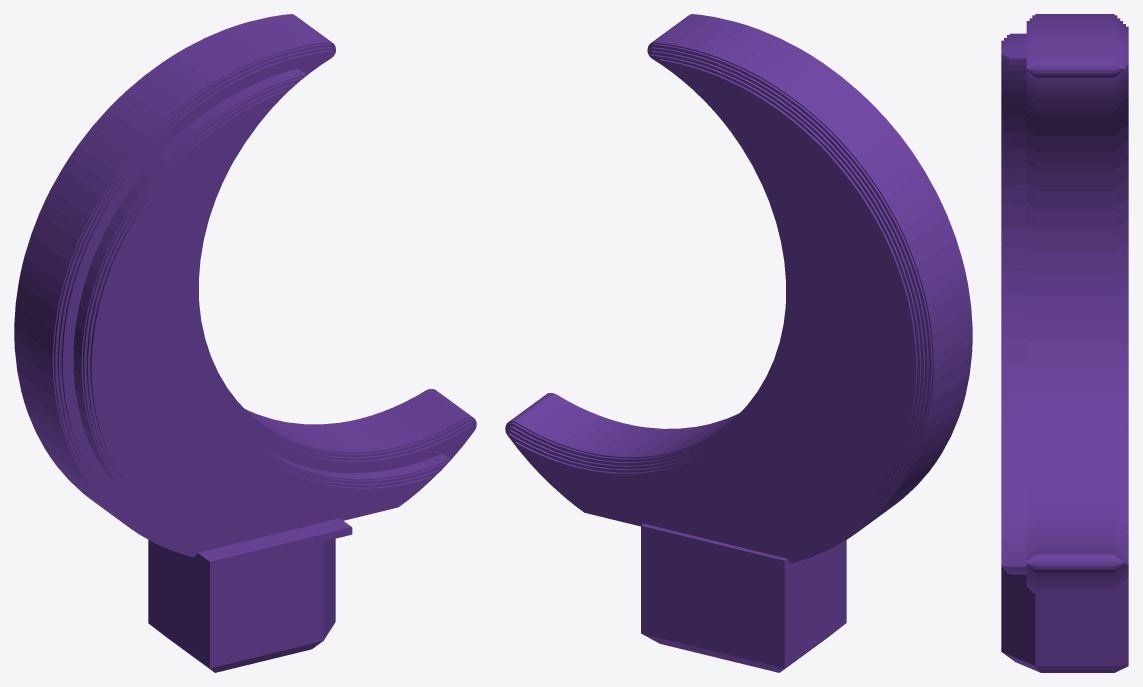
The model's file is glyph-shadow@shadow.glb.
3 views of the same model, side by side, from view 1: azimuth 30°, elevation 25°; view 2: azimuth 150°, elevation 25°; view 3: azimuth 270°, elevation 25° (orthographic). The views are drawn at different scales.
Parts seen in each view (by area): view 1: geometry_0; view 2: geometry_0; view 3: geometry_0.
Part boxes in pixels (x1,y1,x2,y2): geometry_0: (14,14,476,672); geometry_0: (505,14,972,672); geometry_0: (1001,14,1128,672).
Size of the model in its own units: 17.89 by 24.05 by 4.5.
